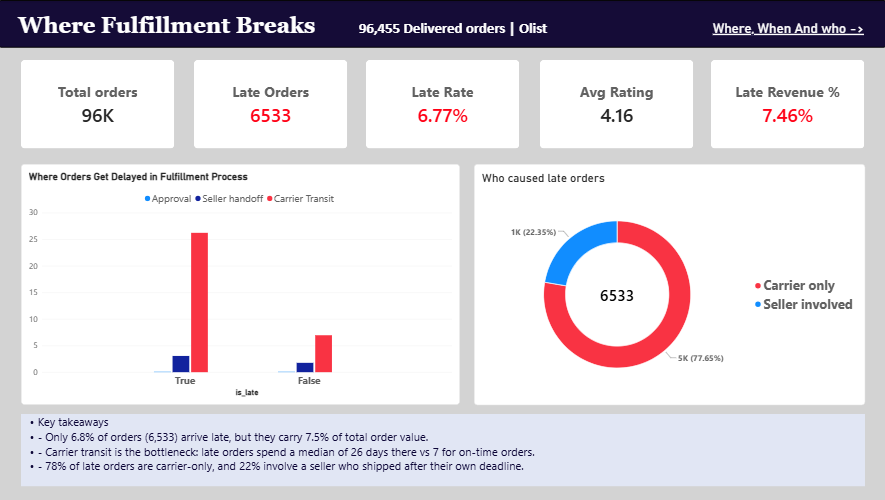

The dashboard page shown, as its layout file describes it:
{"tool":"powerbi","page":{"name":"Overview","canvas":[1920,1080],"ordinal":0},"visuals":[{"type":"cardVisual","fields":{"Data":["orders.orders"]},"box":[50,130,331.9,191.8],"z":0},{"type":"cardVisual","fields":{"Data":["orders.Late Orders"]},"box":[422.5,130,331.9,191.8],"z":1000},{"type":"textbox","box":[0,0,1920,103],"z":2000},{"type":"cardVisual","fields":{"Data":["orders.Late Rate"]},"box":[795,130,331.9,191.8],"z":3000},{"type":"cardVisual","fields":{"Data":["orders.Avg Rating"]},"box":[1170,130,331.9,191.8],"z":4000},{"type":"cardVisual","fields":{"Data":["orders.Late Revenue %"]},"box":[1540,130,331.9,191.8],"z":5000},{"type":"clusteredColumnChart","title":"Where Orders Get Delayed in Fulfillment Process","fields":{"Category":["orders.is_late"],"Y":["Median(orders.approval_days)","Median(orders.handoff_days)","Median(orders.carrier_days)"]},"box":[50,355,947.5,520],"z":6000},{"type":"donutChart","title":"Who caused late orders","fields":{"Category":["orders.fault_group"],"Y":["orders.Total orders"]},"box":[1028.2,354.2,844.6,520.6],"z":7000},{"type":"textbox","box":[49.7,894.2,1823,155.5],"z":8000},{"type":"actionButton","title":"Where, When And who ->","box":[1525.6,38,364.4,46],"z":9000}]}

Visuals, with their boxes in screenshot pixels (x1, y1, x2, y2), scaled from the page's 1920x1080 canvas onto the 885x500 screenshot:
cardVisual - orders.orders: 23/60/176/149
cardVisual - orders.Late Orders: 195/60/348/149
textbox: 0/0/884/48
cardVisual - orders.Late Rate: 366/60/519/149
cardVisual - orders.Avg Rating: 539/60/692/149
cardVisual - orders.Late Revenue %: 710/60/863/149
"Where Orders Get Delayed in Fulfillment Process" clusteredColumnChart: 23/164/460/405
"Who caused late orders" donutChart: 474/164/863/405
textbox: 23/414/863/486
"Where, When And who ->" actionButton: 703/18/871/39
